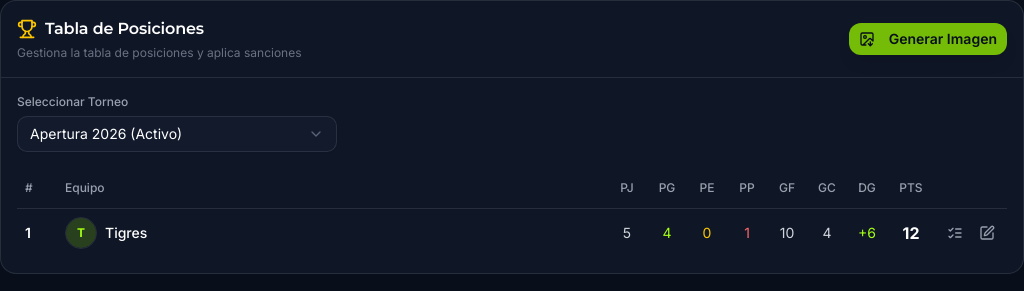
Test case: Standings page › switches tournament and loads its table
This screenshot has width=1024, height=291.
Expected: the text "Tigres" is shown, [105, 222, 147, 242]
What coordinates should you click on to do the following:
click the dropdown named "Seleccionar Torneo"
I would click on:
 (177, 134)
Its box is [17, 116, 337, 152].
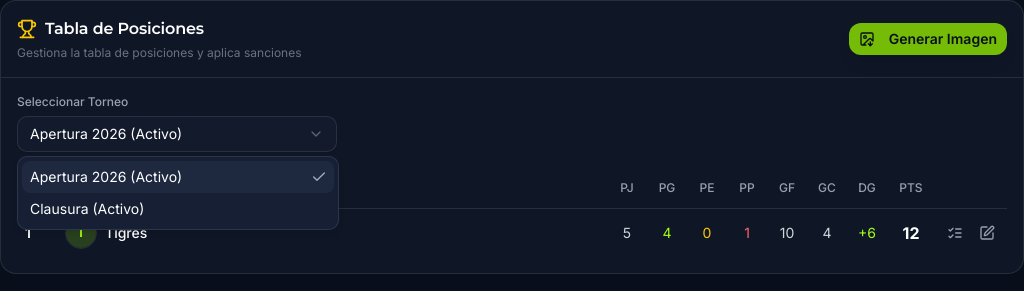
What coordinates should you click on to do the following:
click the option "Clausura (Activo)"
I would click on:
 (87, 208)
Its box is [30, 200, 144, 217].
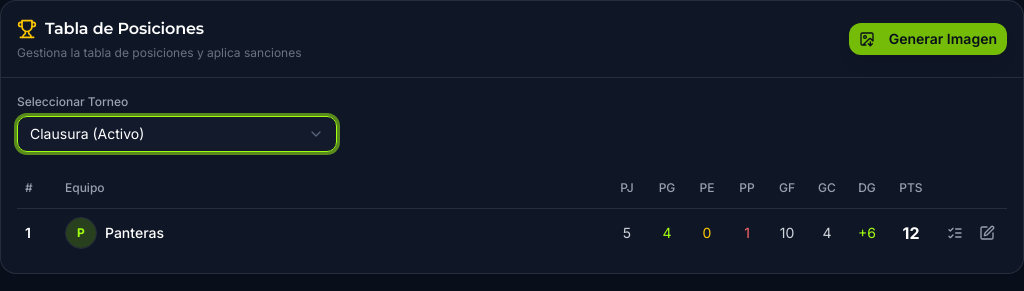
Expected: the text "Panteras" is shown, [105, 222, 164, 242]
